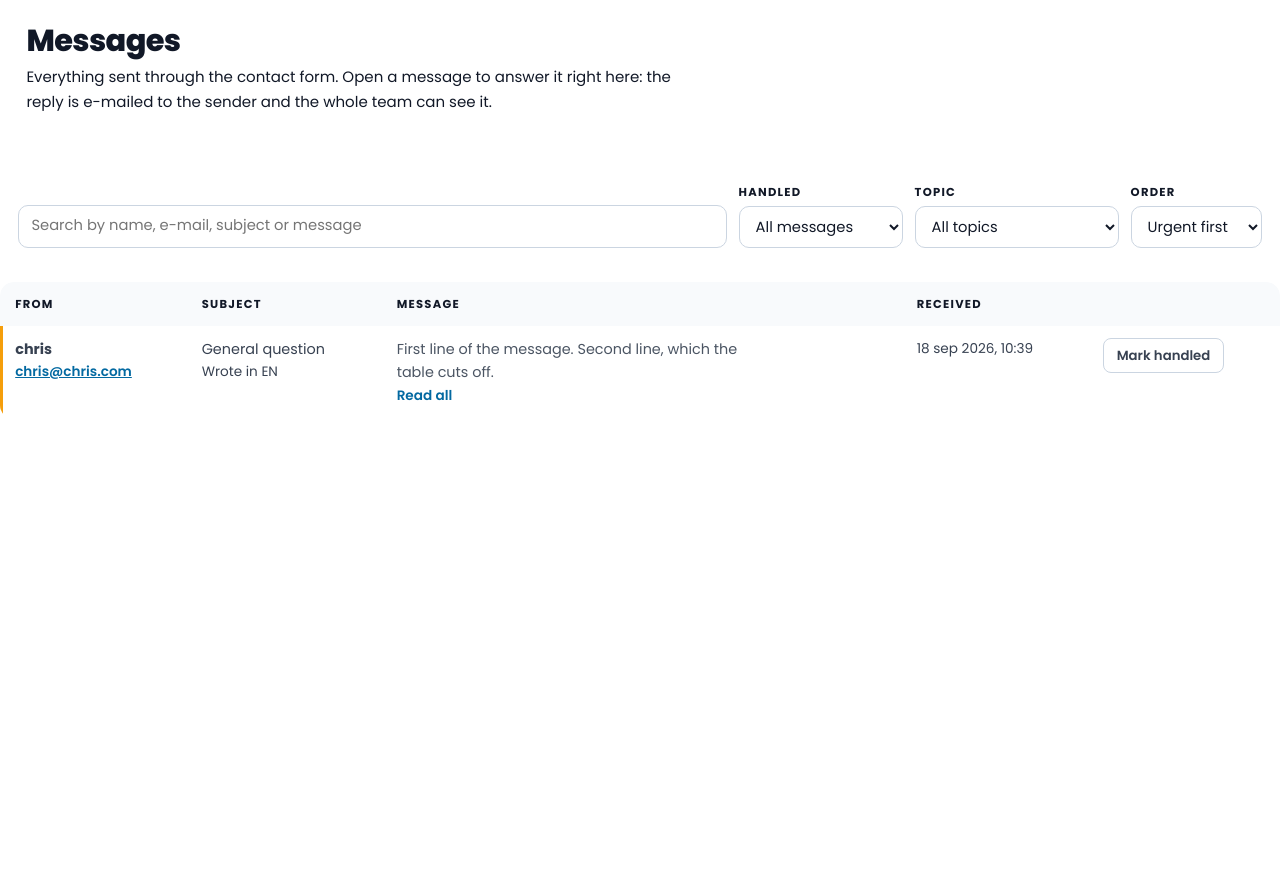
Test: Messages: Write with AI › puts a draft in the reply box and sends nothing
Click the button "Read all": click(424, 396) [397,385,452,407]
(page scrolled)
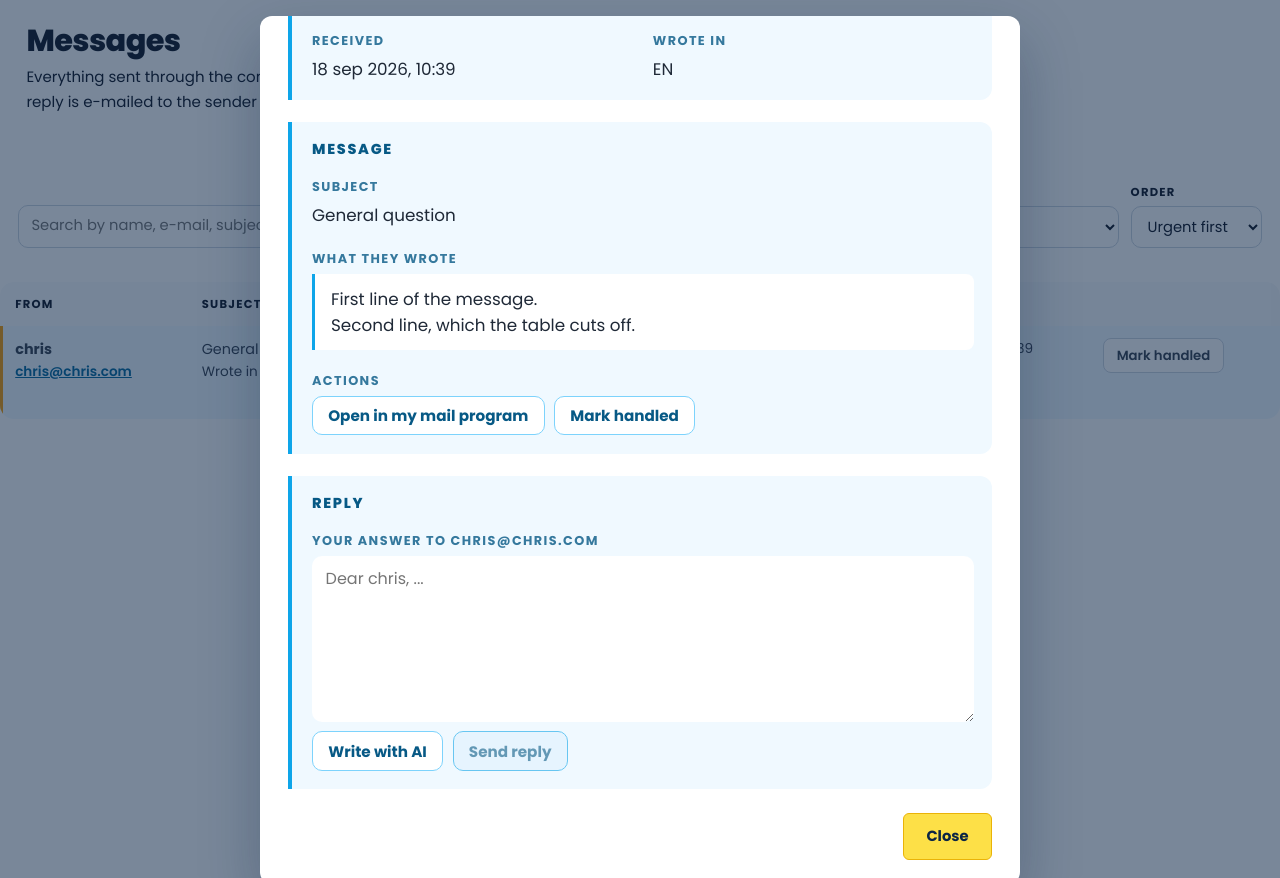
Click the button "Write with AI": click(378, 751) [312,732,443,771]
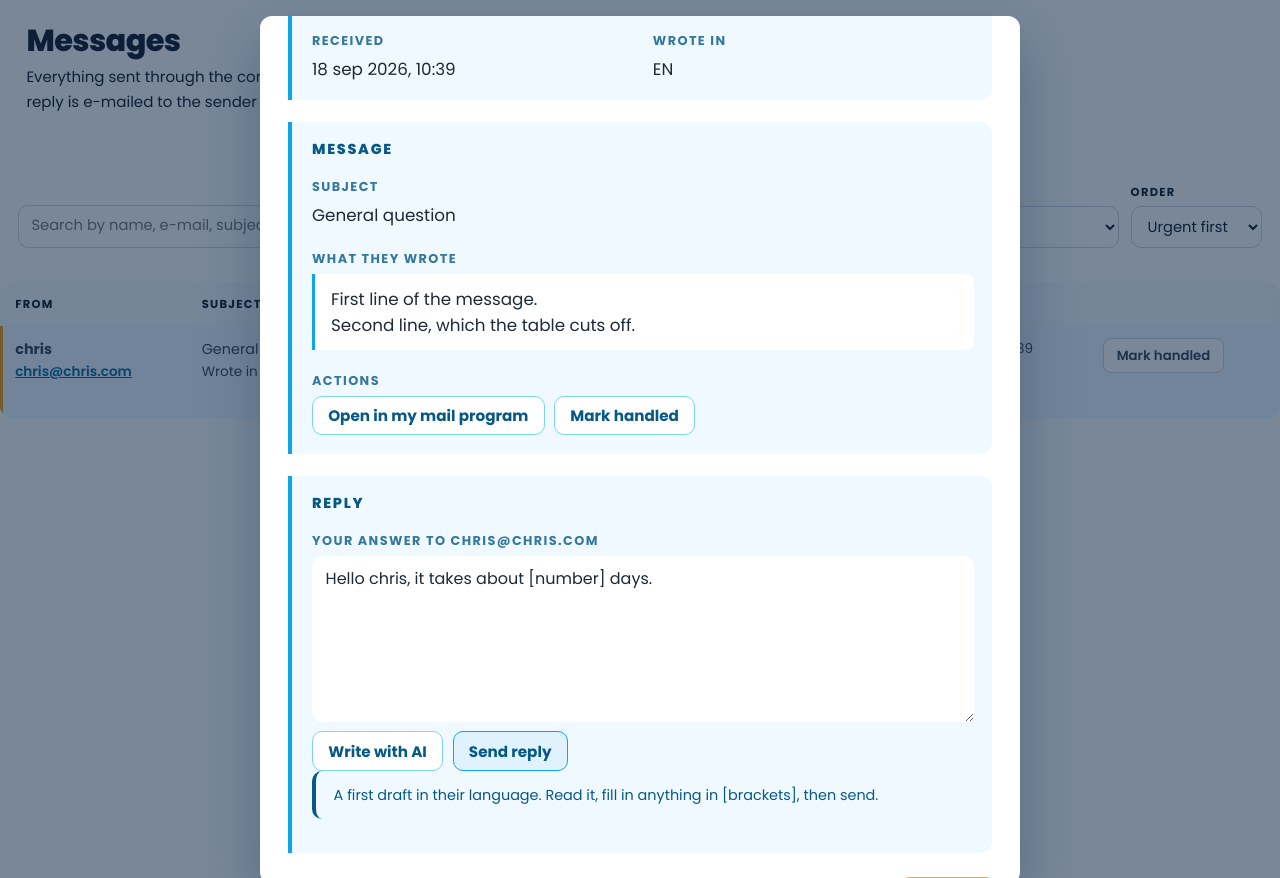
Expected: the text "A first draft in their language" is shown, [334,785,878,805]
Expected: the text box named "Your answer to chris@chris.com" holds "Hello chris, it takes about [number] days.", [312,556,974,722]
